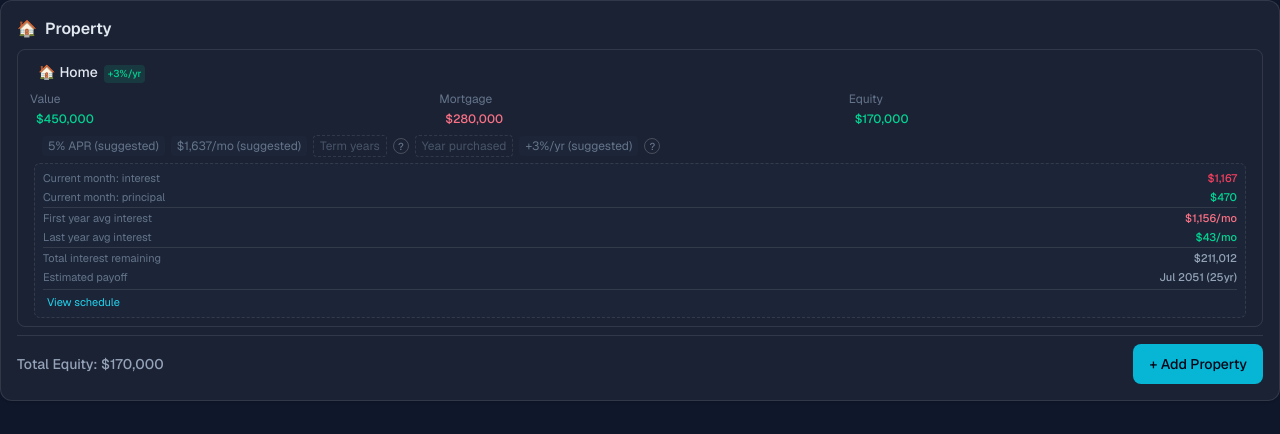
Test case: PropertyEntry component › shows click-to-edit input when value is clicked
Step 1. Click the button named "Edit value for Home" → {"x": 65, "y": 119}, box [30, 109, 431, 129]
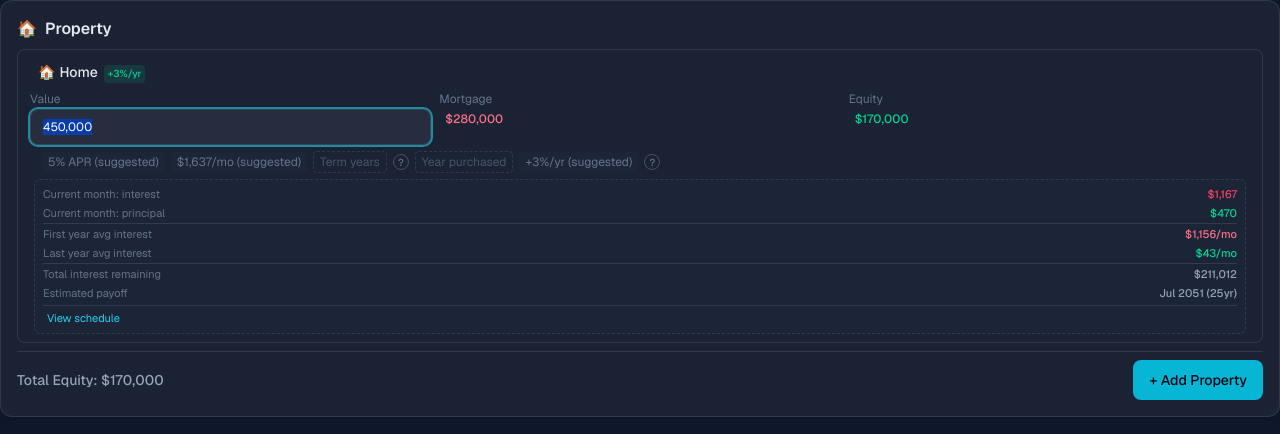
Now the field named "Edit value for Home" is shown, box [30, 109, 431, 145]
